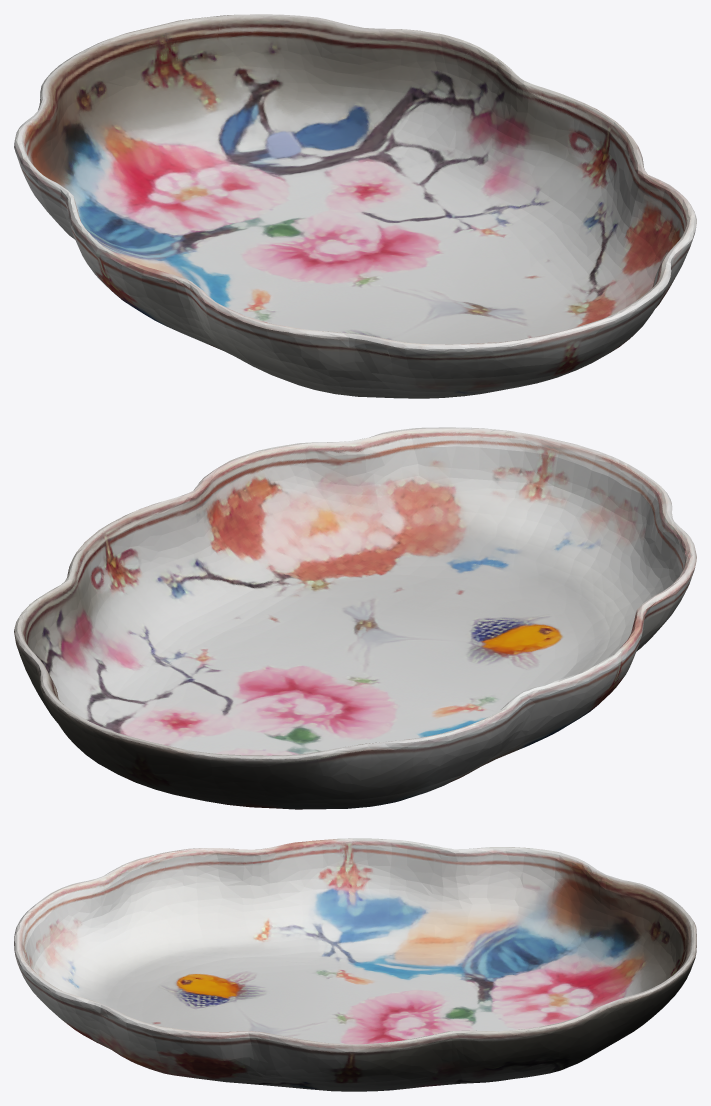
File: porcelain-platter-japanese.jpeg.glb
3 renders of one model, top to bottom at view 1: azimuth 30°, elevation 25°; view 2: azimuth 150°, elevation 25°; view 3: azimuth 270°, elevation 25°, orthographic. The views are drawn at different scales.
Parts seen in each view (by area): view 1: world; view 2: world; view 3: world.
Boxes of the visible parts, bbox=[...] form: world: bbox=[14, 14, 696, 398]; world: bbox=[14, 427, 696, 809]; world: bbox=[14, 838, 696, 1091].
Size of the model in its own units: 0.7254 by 0.1368 by 1.
1 material, 1 textured.
